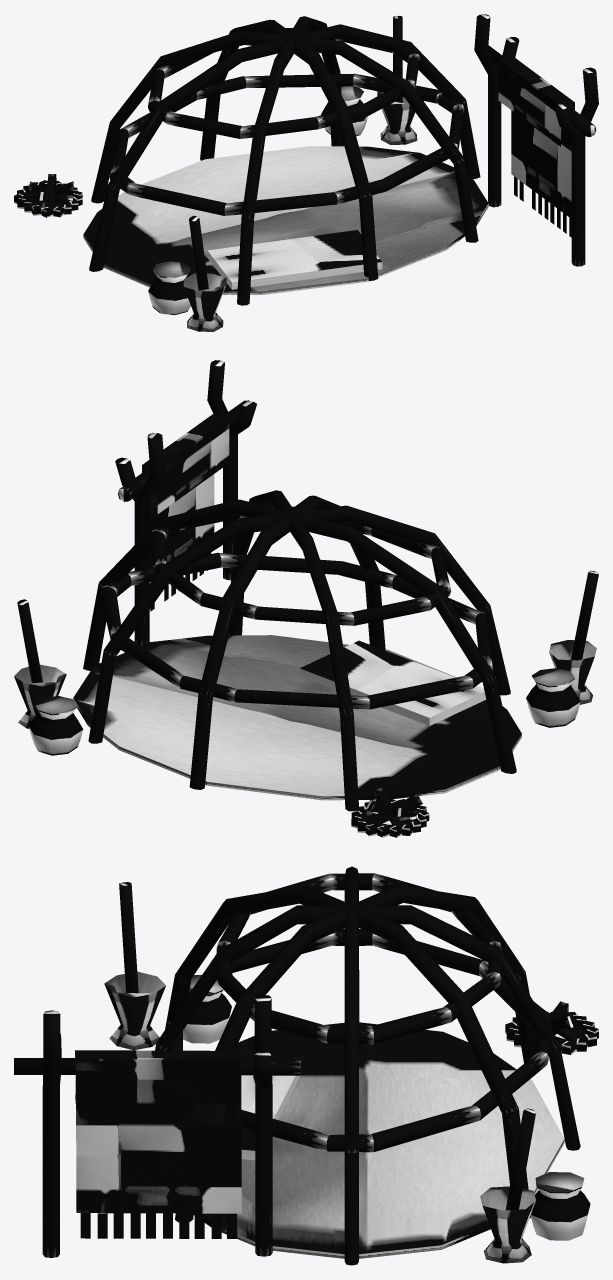
The model's file is house_04.dae.
The picture shows the model from 3 angles, top to bottom: view 1: azimuth 30°, elevation 25°; view 2: azimuth 150°, elevation 25°; view 3: azimuth 270°, elevation 25°; orthographic projection. The views are drawn at different scales.
Visible parts, largest first — view 1: house_04; view 2: house_04; view 3: house_04.
Boxes of the visible parts, x1,y1,x2,y2 form: house_04: [14, 14, 598, 331]; house_04: [14, 360, 598, 837]; house_04: [14, 866, 598, 1265].
Size of the model in its own units: 11.89 by 11.74 by 5.51.
